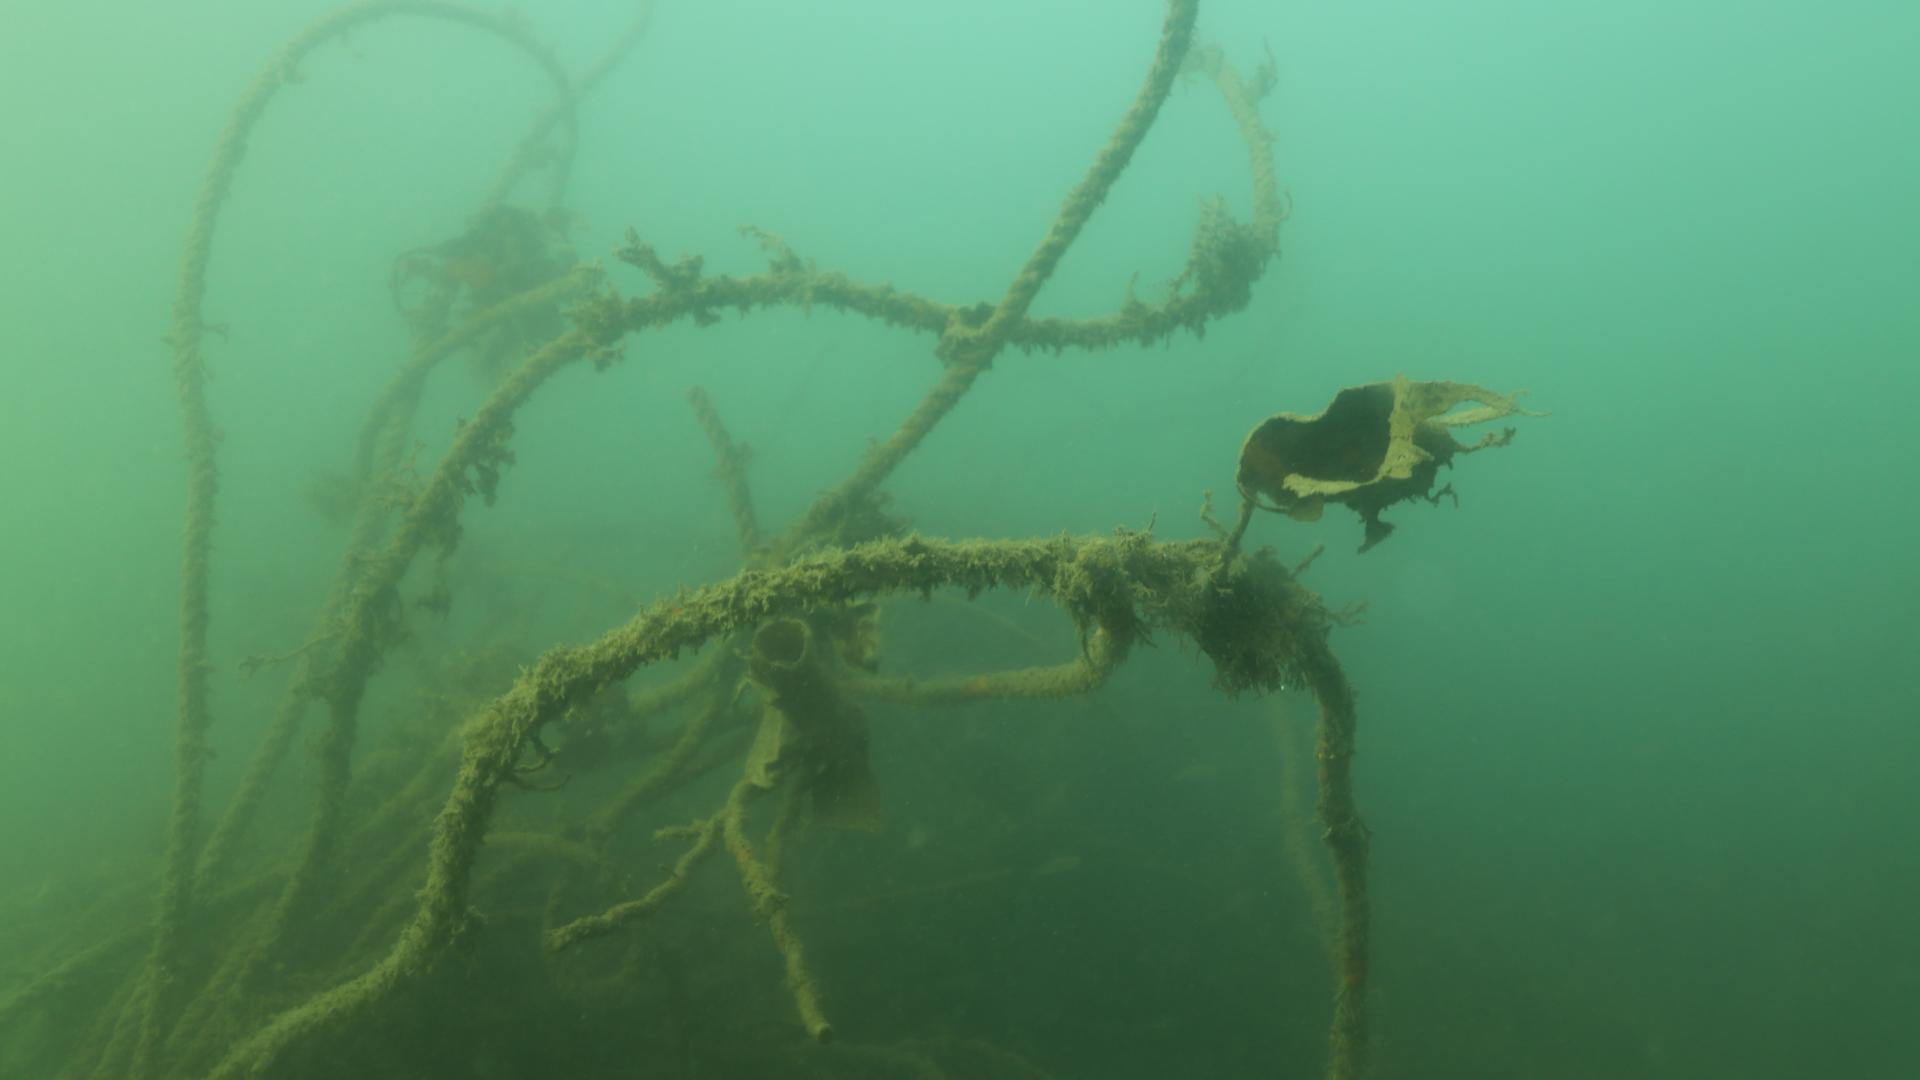bundle of ropes: (0, 0, 1385, 1072)
